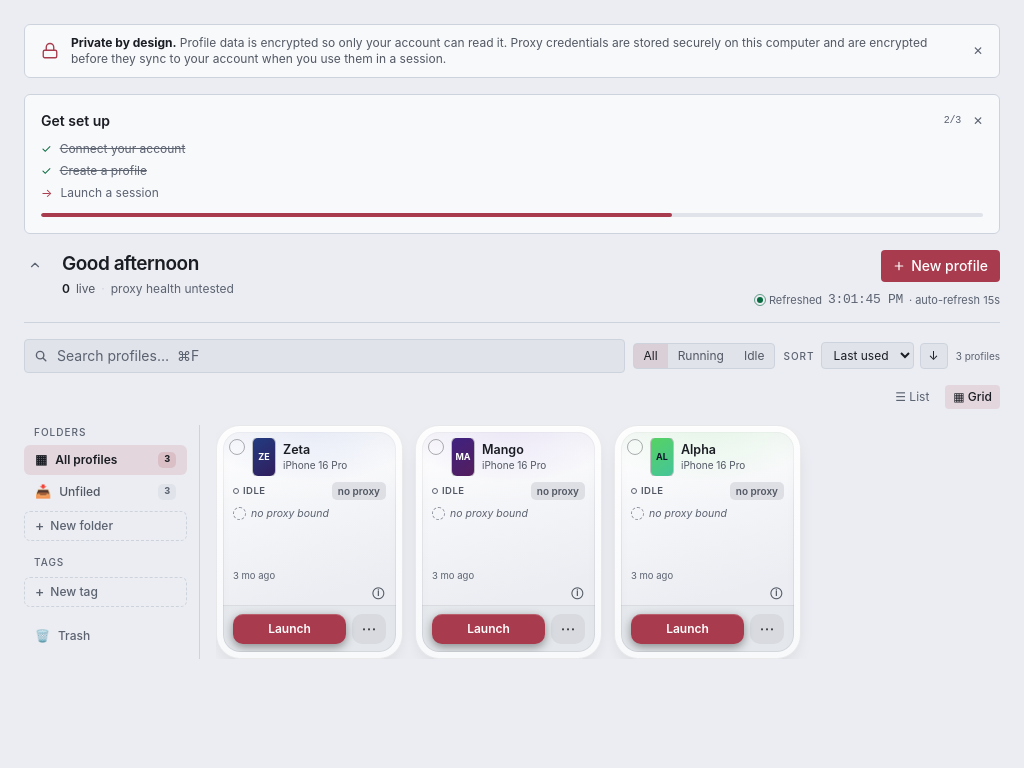
Test: ProfilesView unified sort persists across grid↔list › a name sort chosen in the grid still applies after switching to the list
Expected: the text "Zeta" is shown, [283,442,310,456]
Note: Sort by name (ascending is name's natural default) → Alpha, Mango, Zeta.
Select "Name" in the dropdown named "Sort profiles": [867, 356] box [821,342,914,369]
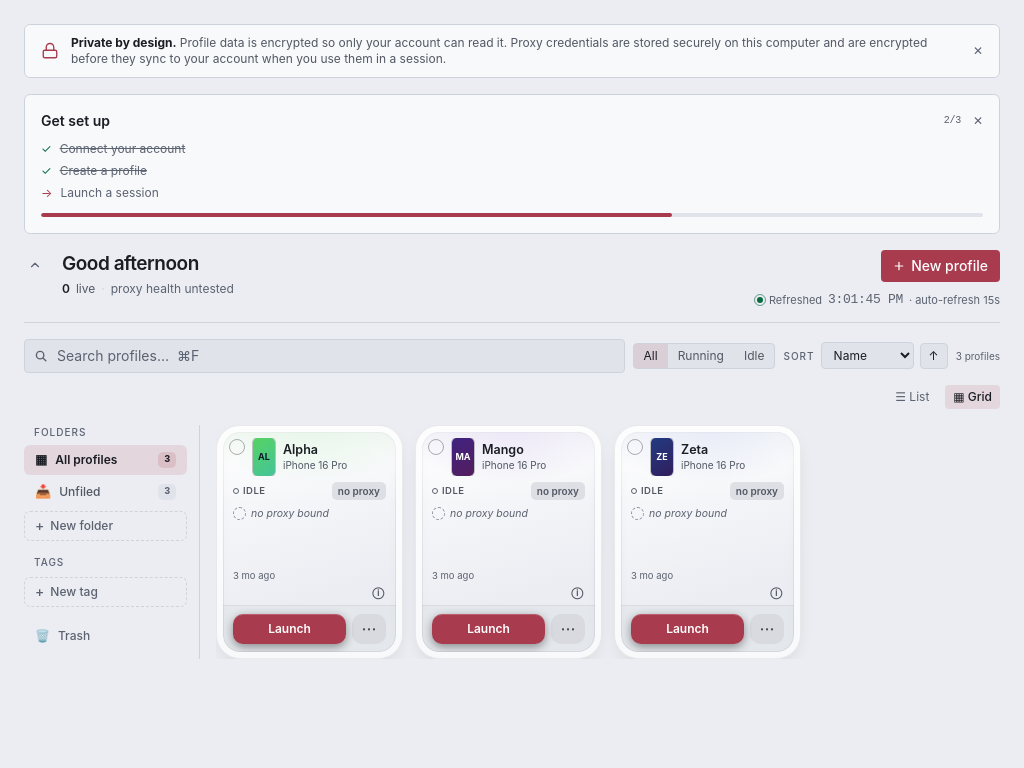
Click the button "☰ List": [912, 396] box [887,384,937,408]
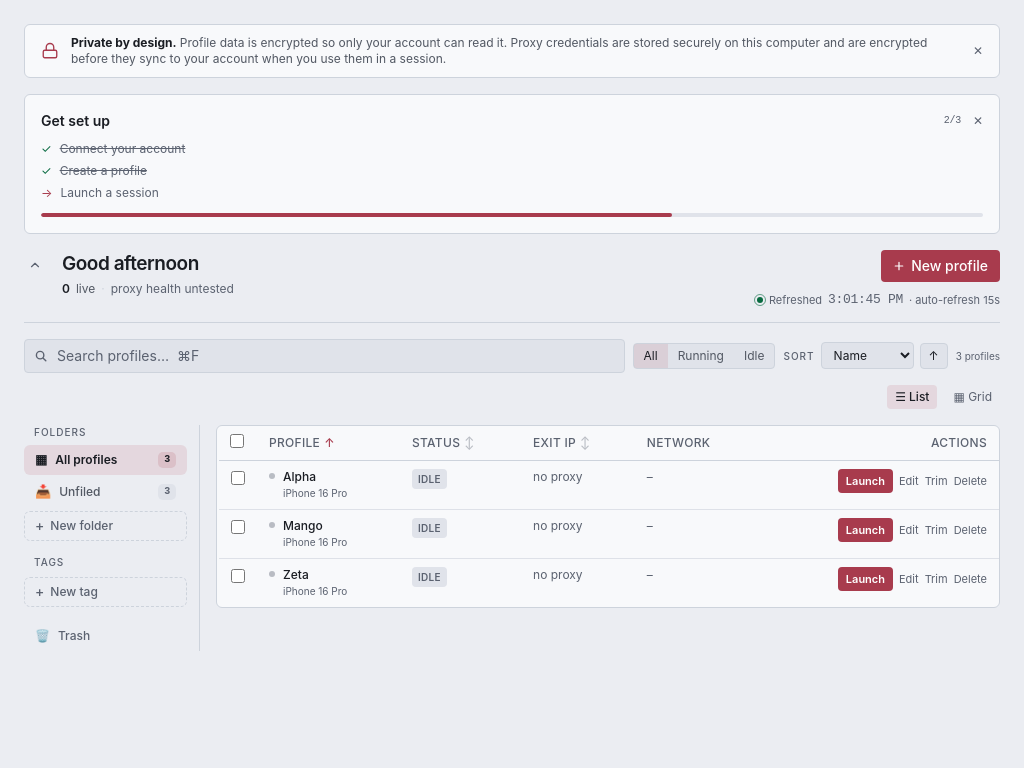
Result: the table is shown at [217,426,999,606]
